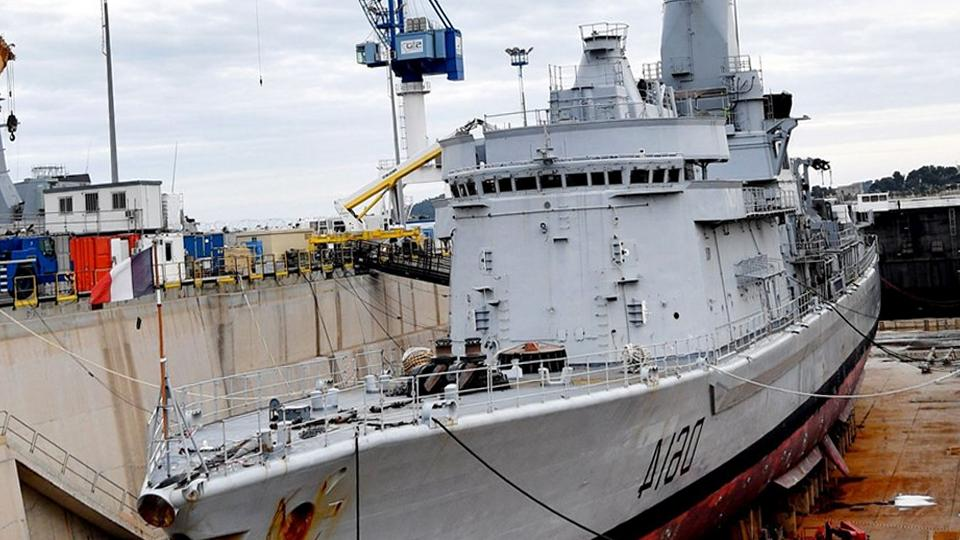rust: (815, 398, 956, 537), (266, 493, 353, 540)
